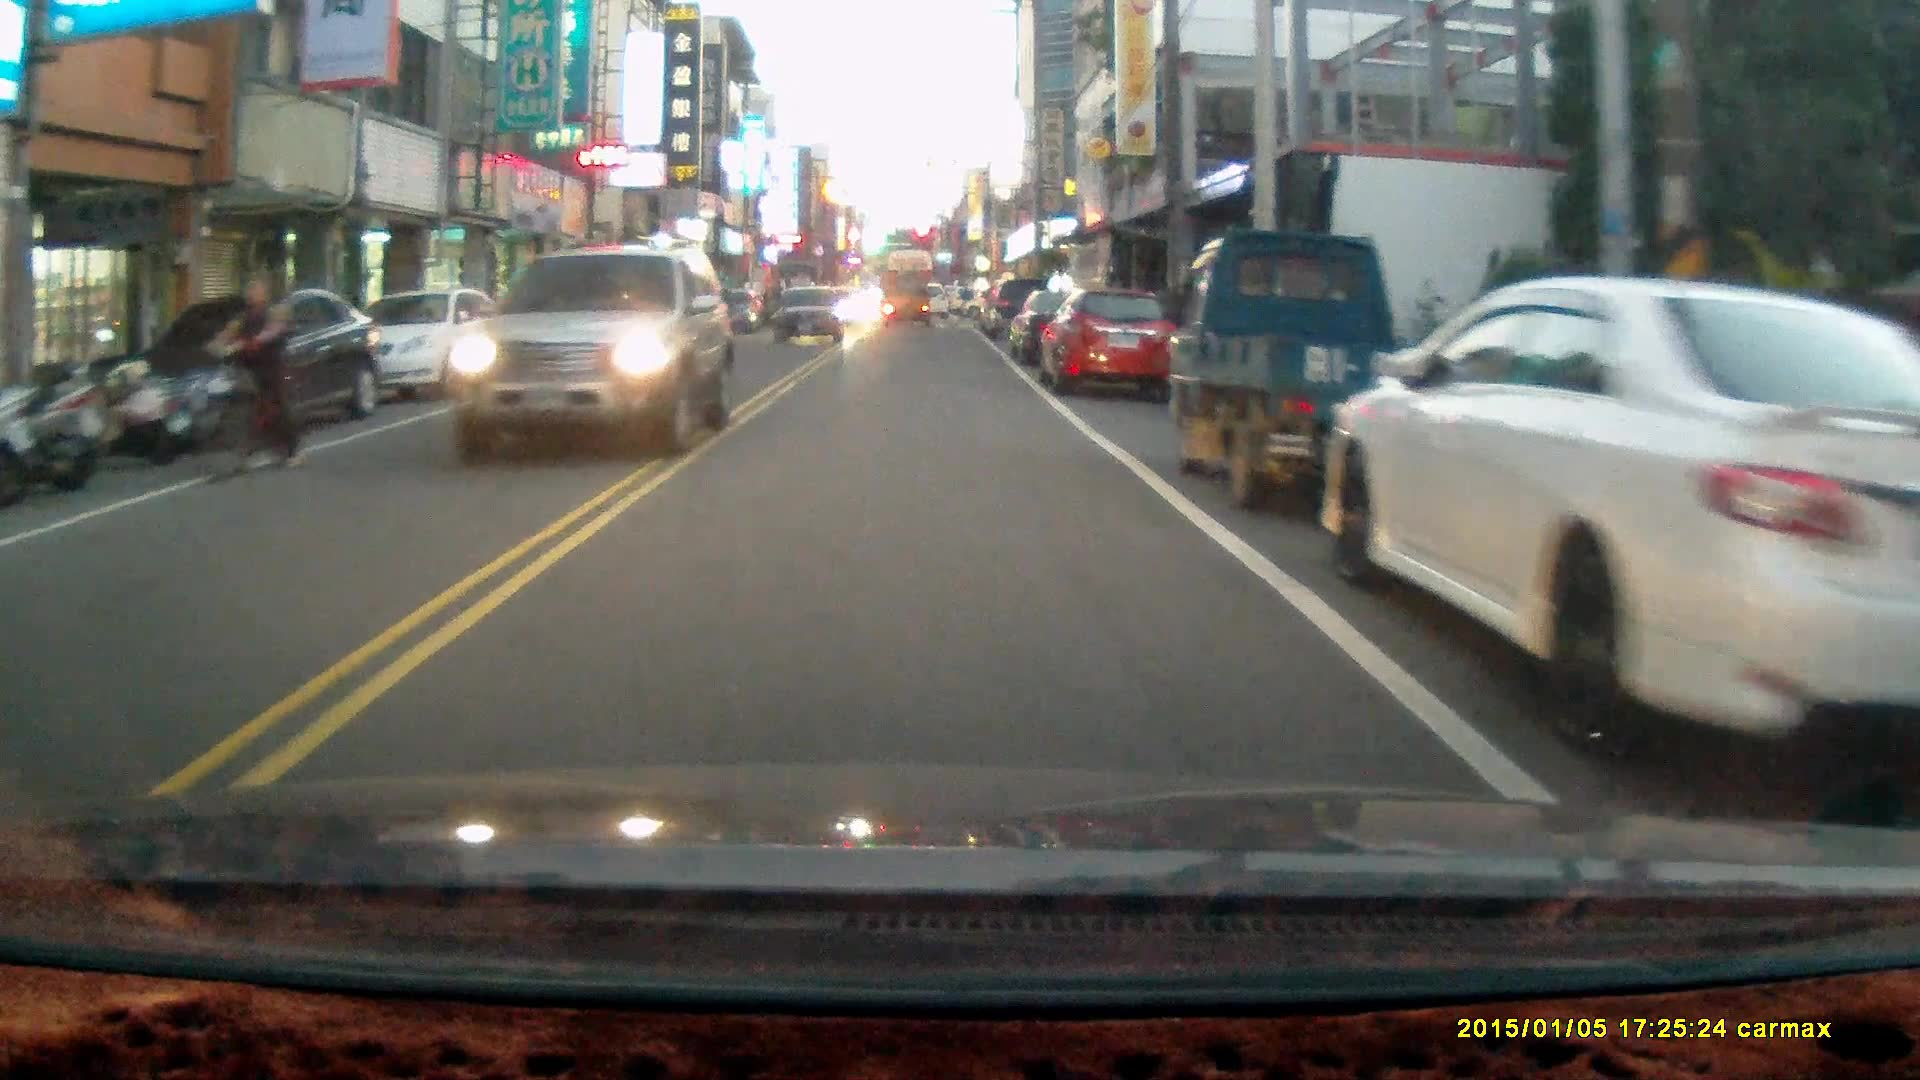rider: (194, 266, 305, 481)
vehicle: (1321, 273, 1920, 769), (1170, 225, 1491, 515), (443, 246, 736, 458), (123, 288, 378, 437), (304, 287, 496, 403), (1044, 287, 1178, 398), (1006, 286, 1124, 375), (774, 284, 846, 347), (880, 269, 933, 332)
